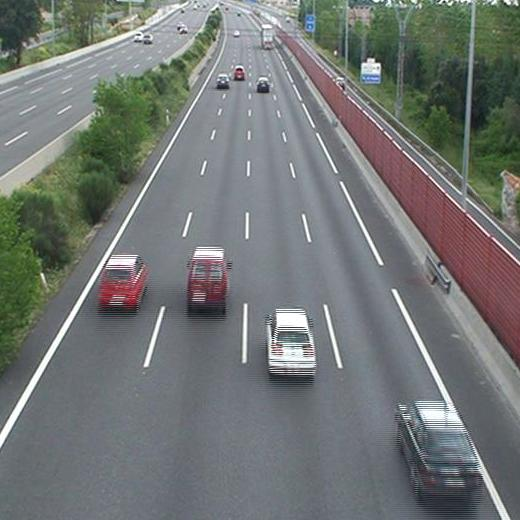car: (400, 403, 478, 493), (266, 310, 316, 375), (98, 257, 145, 305), (256, 78, 269, 92), (216, 74, 229, 88), (234, 67, 245, 79)
truck: (261, 24, 274, 48)
van: (187, 248, 227, 307)
